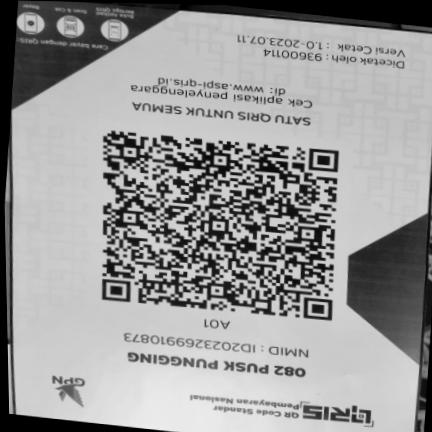Cara Pakai QRIS: (16, 0, 140, 55)
Cek Aplikasi Penyelenggara: (123, 71, 317, 111)
Dicetak Oleh: (258, 47, 409, 72)
Logo GPN: (42, 370, 92, 411)
Logo dan deskripsi QRIS: (179, 387, 380, 432)
Nama Merchant: (119, 348, 313, 383)
National Merchant ID: (118, 329, 315, 362)
QR Code: (97, 124, 347, 325)
Slogan: (125, 98, 314, 128)
Terminal ID: (199, 317, 235, 333)
Versi Cetak: (231, 31, 409, 60)
